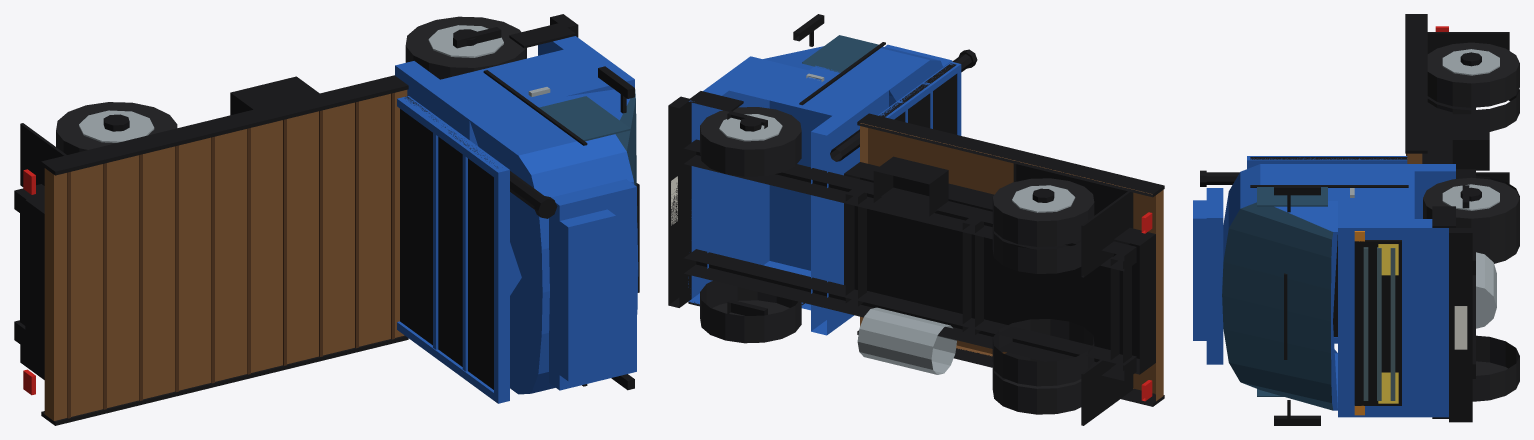
Rendered from empty.glb.
The picture shows the model from 3 angles, left to right: view 1: azimuth 30°, elevation 25°; view 2: azimuth 150°, elevation 25°; view 3: azimuth 270°, elevation 25°; orthographic projection. The views are drawn at different scales.
Visible parts, largest first — view 1: empty_deck, empty_headboard, empty_cab_upper, empty_air_dam_top, empty_air_dam, empty_side1_-3.60_1.67_black, empty_cab_arch, empty_front1, empty_rear_out1, empty_headboard_top, empty_subframe, empty_cab_back (+24 smaller); view 2: empty_subframe, empty_cab_arch, empty_chassis-1, empty_deck, empty_cab_front, empty_cab_back, empty_chassis1, empty_front1, empty_rear_out1, empty_fuel_tank, empty_side1_-3.60_1.67_black, empty_bumper (+19 smaller); view 3: empty_cab_upper, empty_cab_front, empty_rear_out1, empty_grille, empty_front1, empty_bumper, empty_cab_arch, empty_side1_-3.60_1.67_black, empty_air_dam, empty_front-1, empty_battery_box, empty_air_dam_top (+22 smaller).
Boxes of the visible parts, x1=… form: empty_deck: x1=44, y1=90, x2=407, y2=420; empty_headboard: x1=400, y1=96, x2=497, y2=389; empty_cab_upper: x1=469, y1=89, x2=638, y2=394; empty_air_dam_top: x1=559, y1=209, x2=615, y2=381; empty_air_dam: x1=549, y1=179, x2=636, y2=390; empty_side1_-3.60_1.67_black: x1=41, y1=75, x2=408, y2=175; empty_cab_arch: x1=440, y1=49, x2=612, y2=295; empty_front1: x1=405, y1=16, x2=526, y2=79; empty_rear_out1: x1=56, y1=102, x2=177, y2=154; empty_headboard_top: x1=494, y1=169, x2=509, y2=402; empty_subframe: x1=25, y1=195, x2=44, y2=367; empty_cab_back: x1=395, y1=61, x2=488, y2=146; empty_subframe: x1=844, y1=162, x2=1155, y2=374; empty_cab_arch: x1=729, y1=61, x2=872, y2=310; empty_chassis-1: x1=683, y1=249, x2=1136, y2=380; empty_deck: x1=860, y1=123, x2=1163, y2=401; empty_cab_front: x1=688, y1=56, x2=769, y2=304; empty_cab_back: x1=811, y1=86, x2=888, y2=335; empty_chassis1: x1=683, y1=139, x2=1136, y2=271; empty_front1: x1=700, y1=107, x2=801, y2=176; empty_rear_out1: x1=992, y1=178, x2=1094, y2=246; empty_fuel_tank: x1=857, y1=307, x2=956, y2=374; empty_side1_-3.60_1.67_black: x1=857, y1=113, x2=1164, y2=197; empty_bumper: x1=668, y1=96, x2=691, y2=307; empty_cab_upper: x1=1222, y1=164, x2=1337, y2=410; empty_cab_front: x1=1338, y1=219, x2=1448, y2=417; empty_rear_out1: x1=1427, y1=42, x2=1519, y2=107; empty_grille: x1=1354, y1=240, x2=1401, y2=405; empty_front1: x1=1423, y1=177, x2=1519, y2=244; empty_bumper: x1=1449, y1=228, x2=1472, y2=422; empty_cab_arch: x1=1338, y1=171, x2=1414, y2=218; empty_side1_-3.60_1.67_black: x1=1405, y1=14, x2=1427, y2=153; empty_air_dam: x1=1206, y1=188, x2=1223, y2=364; empty_front-1: x1=1472, y1=335, x2=1519, y2=401; empty_battery_box: x1=1452, y1=114, x2=1489, y2=170; empty_air_dam_top: x1=1193, y1=200, x2=1206, y2=340.
Size of the model in its own units: 7.56 by 3.9 by 4.85.
